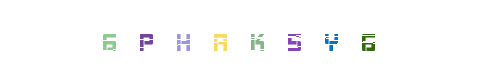5: (210, 0, 290, 80)
6: (149, 0, 229, 80), (328, 0, 408, 80)
A: (180, 0, 260, 80)
H: (170, 0, 250, 80)
K: (180, 0, 260, 80)
P: (158, 0, 238, 80)
Y: (291, 0, 371, 80)
